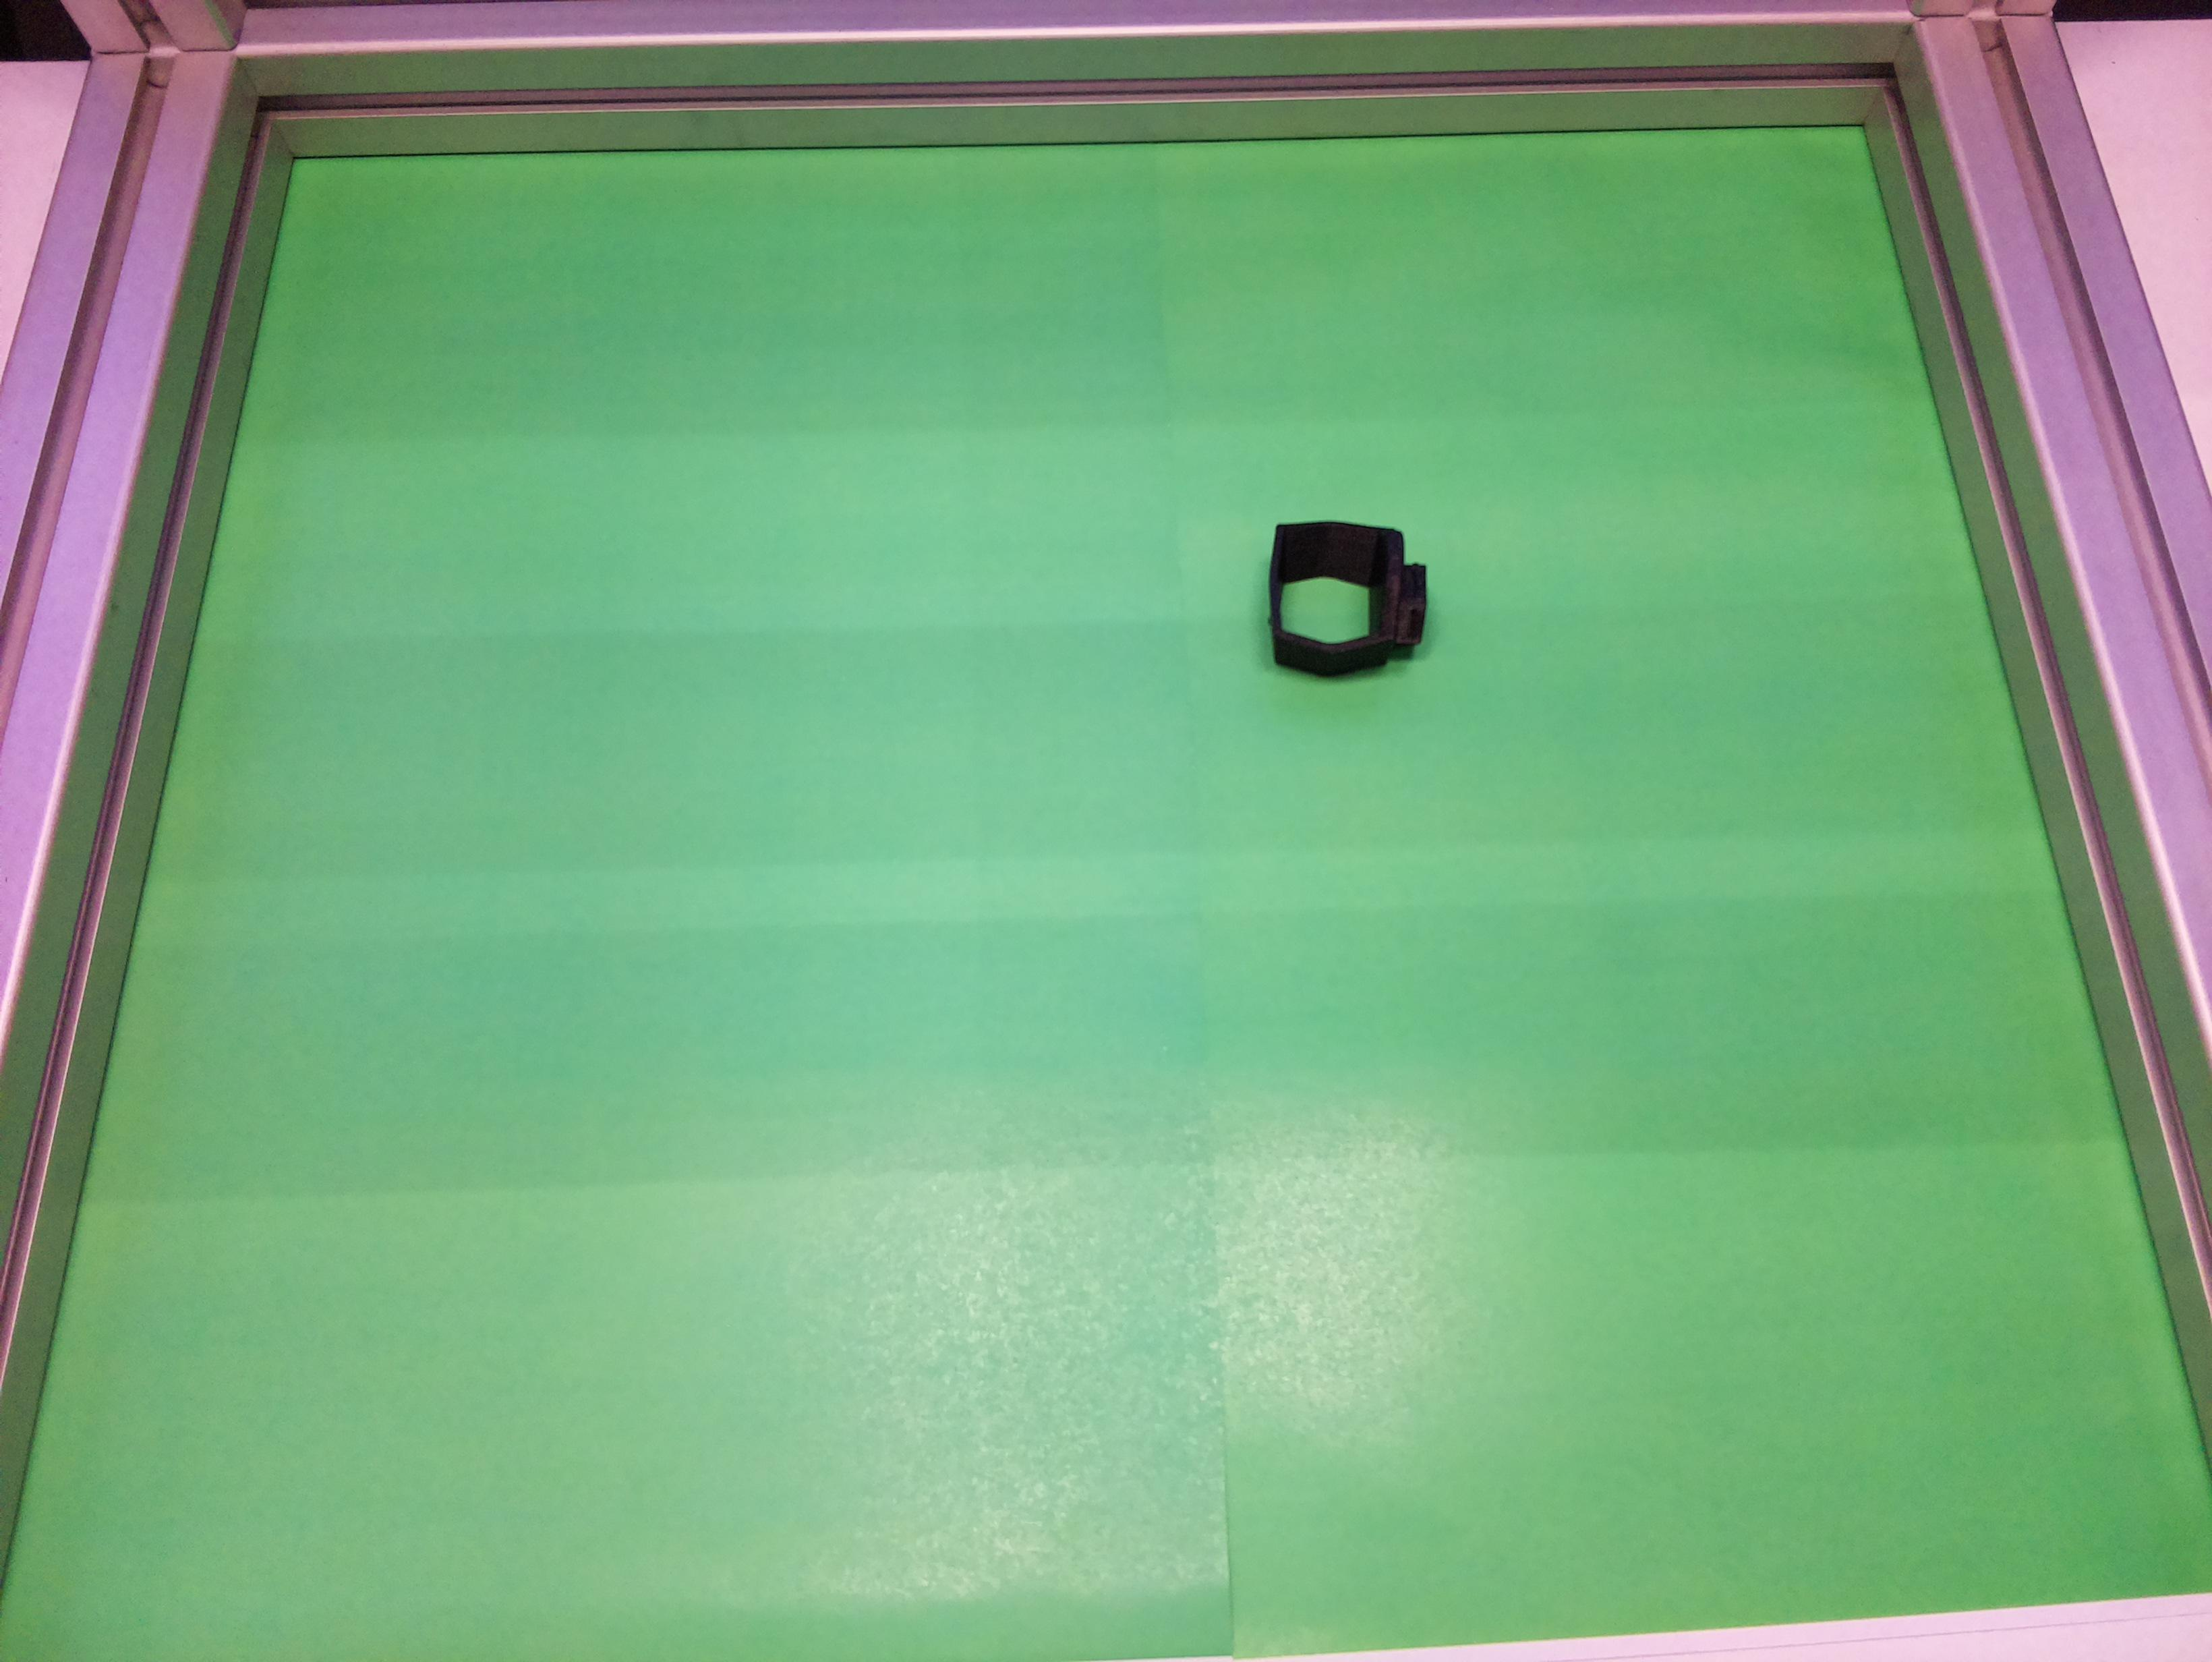scissor_holder: (1266, 520, 1428, 677)
